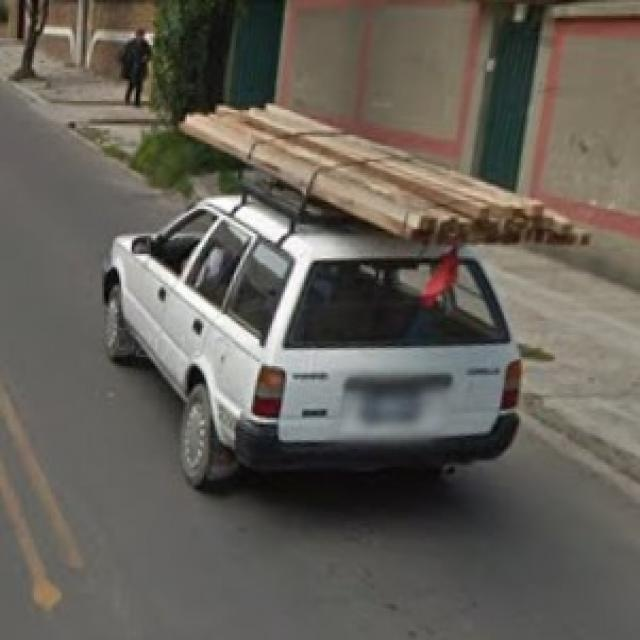Car: (96, 164, 520, 489)
